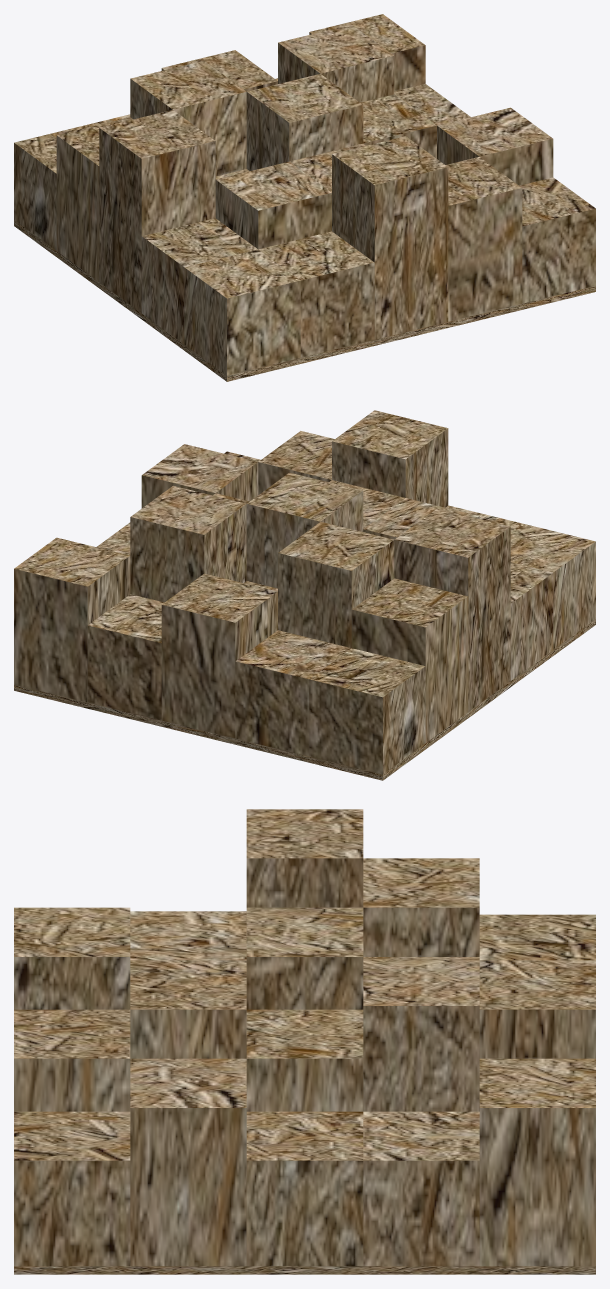
The model's file is blocks.dae.
3 renders of one model, top to bottom at view 1: azimuth 30°, elevation 25°; view 2: azimuth 150°, elevation 25°; view 3: azimuth 270°, elevation 25°, orthographic. The views are drawn at different scales.
Visible parts, largest first — view 1: blocks; view 2: blocks; view 3: blocks.
Part boxes in pixels (<box>): blocks: <box>14,14,595,381</box>; blocks: <box>14,410,595,780</box>; blocks: <box>14,809,595,1274</box>.
Size of the model in its own units: 1 by 1 by 0.416.
Materials: 1 (1 with a texture image).
